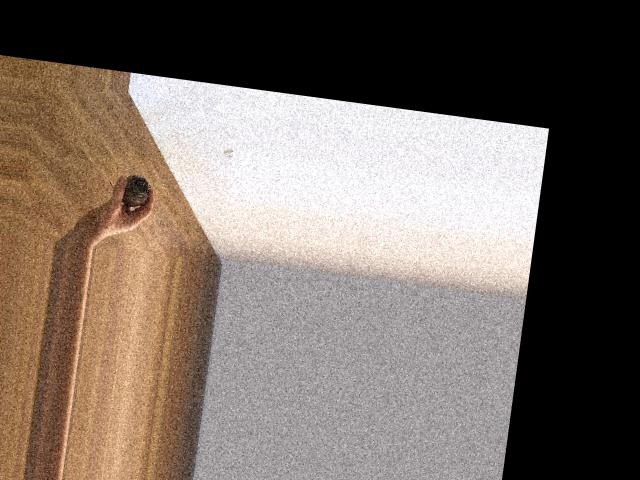beet: (106, 171, 152, 208)
